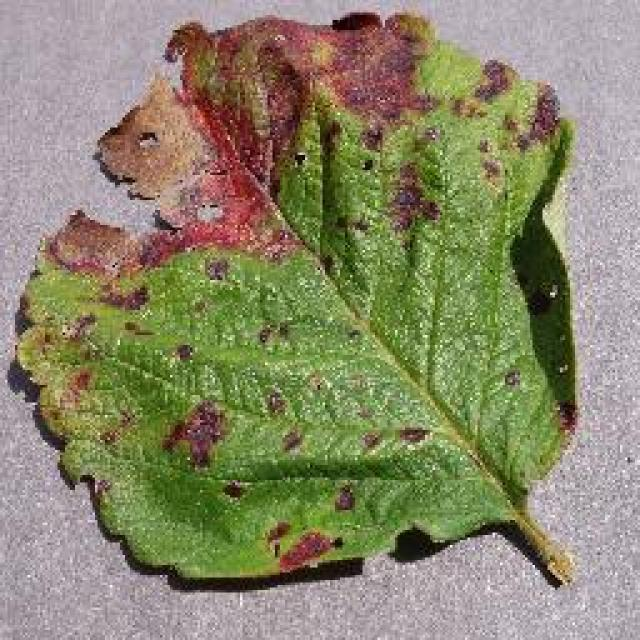Strawberry leaf scorch: (186, 27, 426, 255)
